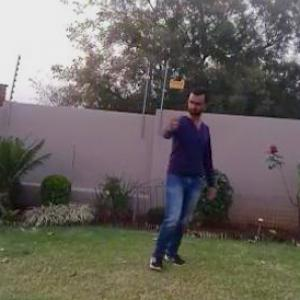takeoff-hand: (159, 106, 184, 135)
